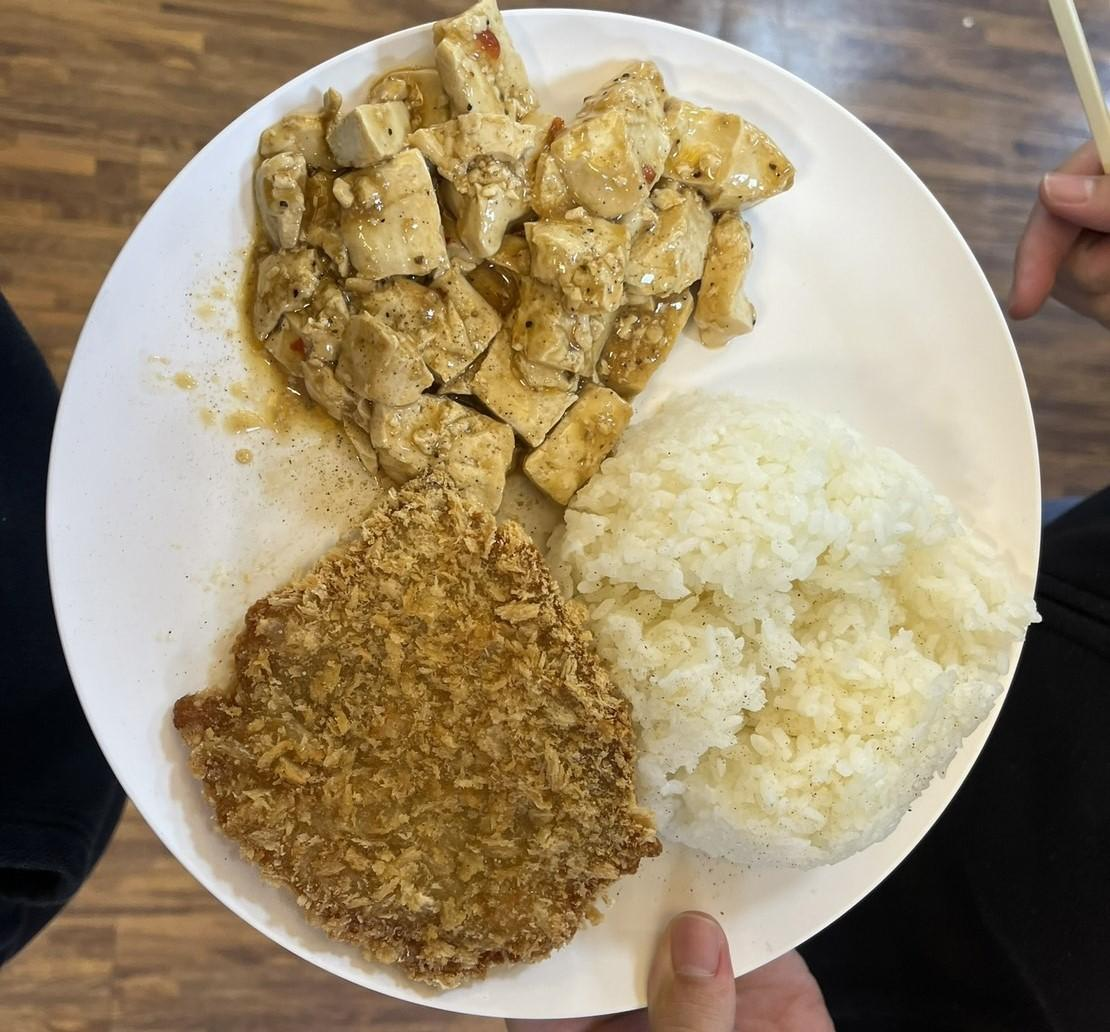big fried chicken leg: (38, 0, 1058, 1013)
big herbal chicken leg: (533, 380, 1030, 869)
braised fish fillet: (238, 0, 788, 501)
braised pork: (166, 498, 650, 983)
